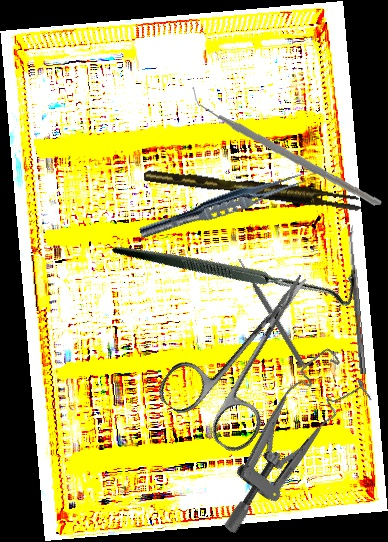Chopper: (191, 77, 383, 215)
Hook Surgical: (109, 144, 368, 390)
Iris Scissors: (152, 247, 350, 459)
Pusher: (235, 256, 307, 368)
Speculum: (178, 343, 386, 537)
Surgical Spoon: (346, 224, 368, 375)
Tissue Forceps: (137, 165, 308, 246), (143, 158, 363, 219)
